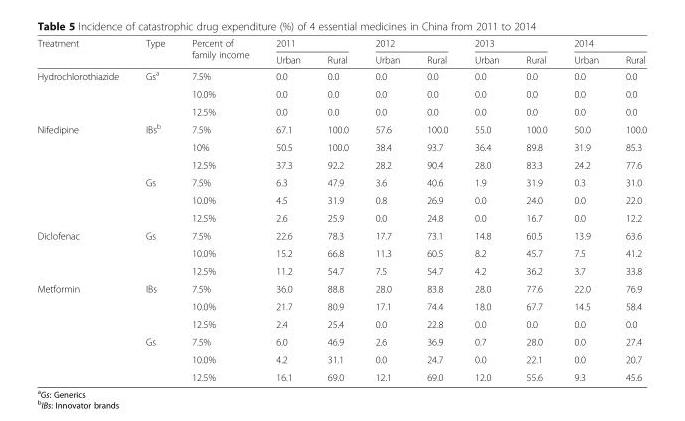table: (36, 37, 646, 382)
table column: (36, 37, 131, 382), (177, 37, 261, 382), (261, 37, 313, 382), (460, 37, 512, 382), (361, 37, 412, 382), (560, 37, 611, 382), (313, 37, 361, 382), (412, 37, 460, 382), (512, 37, 560, 382), (131, 37, 177, 382), (611, 37, 646, 382)
table column header: (36, 37, 646, 66)
table row: (36, 66, 646, 84), (36, 84, 646, 102), (36, 119, 646, 137), (36, 137, 646, 155), (36, 155, 646, 173), (36, 173, 646, 191), (36, 208, 646, 226), (36, 226, 646, 244), (36, 261, 646, 279), (36, 279, 646, 297), (36, 314, 646, 332), (36, 332, 646, 350), (36, 350, 646, 368), (36, 102, 646, 119), (36, 191, 646, 208), (36, 244, 646, 261), (36, 297, 646, 314), (36, 51, 646, 66), (36, 37, 646, 51), (36, 368, 646, 382)
table spanning cell: (36, 119, 131, 226), (36, 279, 131, 382), (36, 66, 131, 119), (36, 226, 131, 279), (36, 37, 131, 66), (131, 119, 177, 173), (131, 66, 177, 119), (131, 173, 177, 226), (131, 226, 177, 279), (131, 279, 177, 332), (177, 37, 261, 66), (131, 332, 177, 382), (261, 37, 361, 51), (460, 37, 560, 51), (361, 37, 460, 51), (131, 37, 177, 66), (560, 37, 646, 51)
